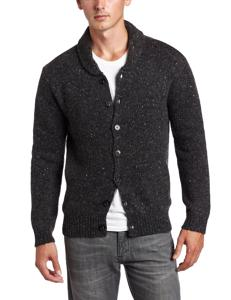C_cardigan sweater: (17, 28, 210, 234)
